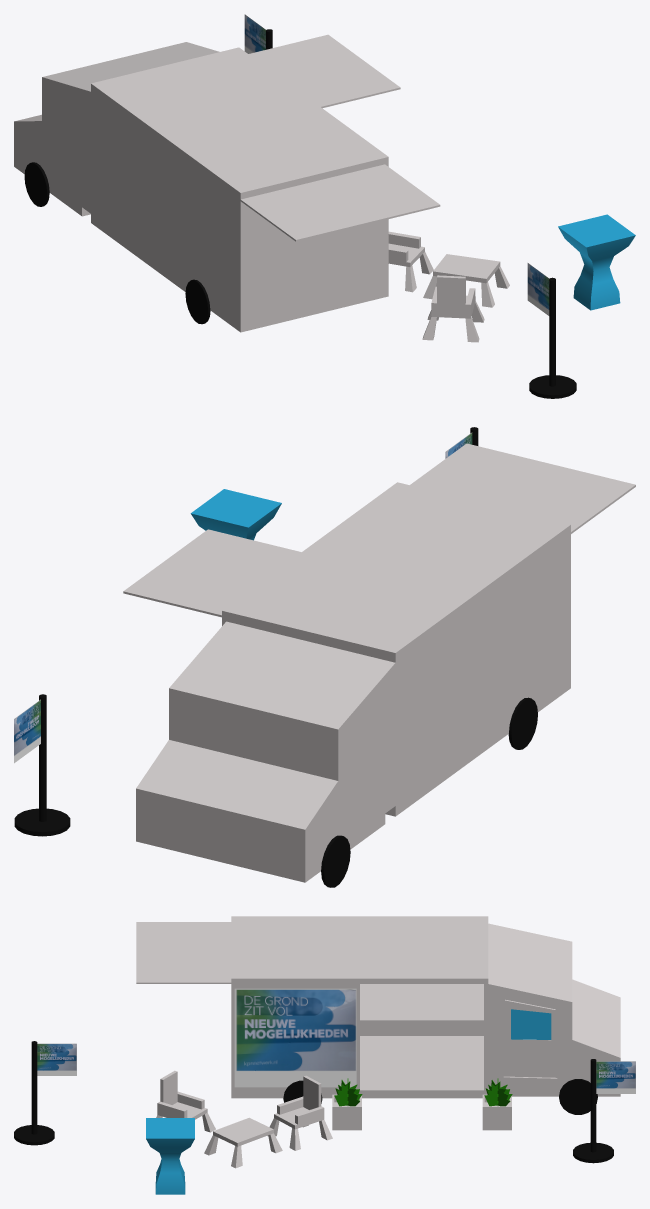
File: Future_V01.FBX
3 views of the same model, one above another, from view 1: azimuth 30°, elevation 25°; view 2: azimuth 150°, elevation 25°; view 3: azimuth 270°, elevation 25° (orthographic). The views are drawn at different scales.
Visible parts, largest first — view 1: Box022, Box028, Box024, Box023, Box025, Cylinder045, Group003, Cylinder044, Cylinder043, Cylinder046, Group004; view 2: Box022, Box028, Cylinder047, Group004, Cylinder044, Cylinder043, Cylinder048; view 3: Box022, Object001, Box028, Box025, Box024, Box023, Group003, Group004, Object002, Cylinder042, Box026, Box027 (+4 smaller).
Boxes of the visible parts, <box> form: Box022: <box>14,34,440,332</box>; Box028: <box>558,214,635,310</box>; Box024: <box>422,275,484,342</box>; Box023: <box>423,254,509,307</box>; Box025: <box>388,231,433,292</box>; Cylinder045: <box>529,375,576,398</box>; Group003: <box>527,263,549,315</box>; Cylinder044: <box>24,162,49,206</box>; Cylinder043: <box>185,279,210,324</box>; Cylinder046: <box>549,277,555,386</box>; Group004: <box>244,14,265,53</box>; Box022: <box>123,443,635,882</box>; Box028: <box>190,489,281,540</box>; Cylinder047: <box>14,808,70,836</box>; Group004: <box>14,699,40,763</box>; Cylinder044: <box>321,835,350,887</box>; Cylinder043: <box>508,697,537,749</box>; Cylinder048: <box>39,694,46,821</box>; Box022: <box>136,916,620,1098</box>; Object001: <box>234,988,356,1087</box>; Box028: <box>146,1118,194,1194</box>; Box025: <box>267,1075,332,1150</box>; Box024: <box>156,1070,215,1132</box>; Box023: <box>204,1117,282,1168</box>; Group003: <box>37,1043,76,1075</box>; Group004: <box>596,1061,635,1093</box>; Object002: <box>511,1009,551,1039</box>; Cylinder042: <box>559,1079,597,1114</box>; Box026: <box>332,1094,361,1130</box>; Box027: <box>482,1094,511,1130</box>.
Size of the model in its own units: 470 by 207 by 847.
5 materials, 1 textured.
